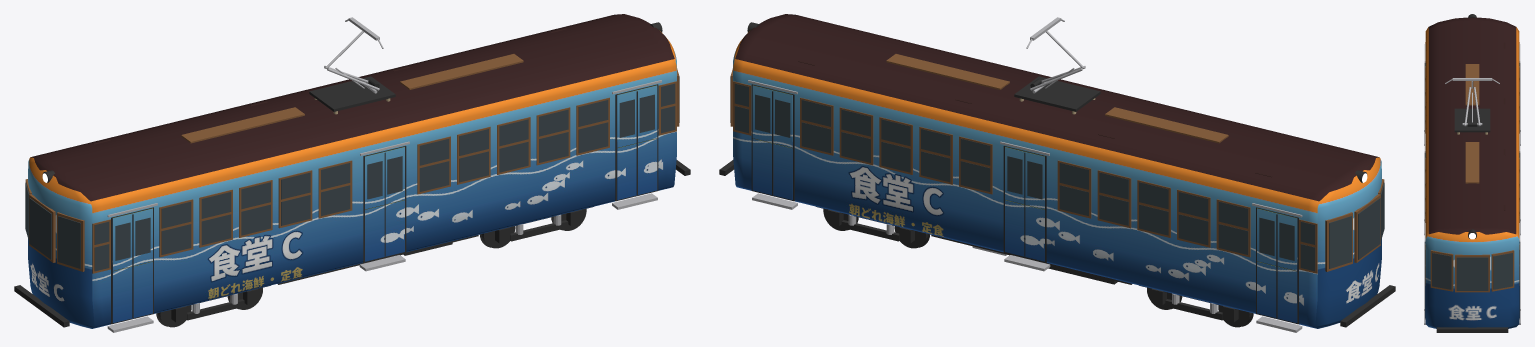
The model's file is tram-shokudo-c.glb.
3 renders of one model, left to right at view 1: azimuth 30°, elevation 25°; view 2: azimuth 150°, elevation 25°; view 3: azimuth 270°, elevation 25°, orthographic. The views are drawn at different scales.
Visible parts, largest first — view 1: H500_Body, H500_SideWin_Glass, H500_Door_Navy, H500_SideWin_Varnish, H500_Door_Beige, H500_Door_Glass, H500_Bogie_Dark, H500_Roof_Varnish, H500_Front_Glass, H500_Door_Dark, H500_Panta_Dark, H500_Under_Metal (+4 smaller); view 2: H500_Body, H500_SideWin_Glass, H500_Door_Navy, H500_SideWin_Varnish, H500_Door_Beige, H500_Door_Glass, H500_Bogie_Dark, H500_Roof_Varnish, H500_Front_Glass, H500_Door_Dark, H500_Panta_Dark, H500_Under_Metal (+5 smaller); view 3: H500_Body, H500_Front_Glass, H500_Roof_Varnish, H500_Front_Varnish, H500_Panta_Dark, H500_Door_Dark, H500_Front_Metal, H500_Panta_Metal, H500_SideWin_Varnish, H500_SideWin_Glass, H500_Door_Metal, H500_Under_Metal.
Part boxes in pixels (box(x1,y1,x2,y2)): H500_Body: box(28, 14, 676, 328); H500_SideWin_Glass: box(94, 83, 675, 271); H500_Door_Navy: box(112, 138, 657, 322); H500_SideWin_Varnish: box(92, 81, 676, 273); H500_Door_Beige: box(112, 85, 657, 270); H500_Door_Glass: box(115, 94, 654, 260); H500_Bogie_Dark: box(156, 206, 593, 327); H500_Roof_Varnish: box(181, 54, 523, 143); H500_Front_Glass: box(25, 76, 679, 268); H500_Door_Dark: box(110, 84, 658, 324); H500_Panta_Dark: box(309, 76, 395, 111); H500_Under_Metal: box(107, 193, 657, 332); H500_Body: box(733, 14, 1381, 328); H500_SideWin_Glass: box(734, 83, 1315, 271); H500_Door_Navy: box(752, 138, 1297, 322); H500_SideWin_Varnish: box(733, 81, 1317, 273); H500_Door_Beige: box(752, 85, 1297, 270); H500_Door_Glass: box(755, 94, 1294, 260); H500_Bogie_Dark: box(816, 206, 1253, 327); H500_Roof_Varnish: box(886, 54, 1228, 143); H500_Front_Glass: box(730, 76, 1384, 268); H500_Door_Dark: box(751, 84, 1299, 324); H500_Panta_Dark: box(1014, 76, 1100, 111); H500_Under_Metal: box(752, 193, 1302, 332); H500_Body: box(1425, 17, 1519, 328); H500_Front_Glass: box(1432, 253, 1512, 290); H500_Roof_Varnish: box(1465, 64, 1479, 183); H500_Front_Varnish: box(1430, 250, 1514, 292); H500_Panta_Dark: box(1454, 108, 1490, 132); H500_Door_Dark: box(1424, 63, 1520, 319); H500_Front_Metal: box(1436, 327, 1508, 332); H500_Panta_Metal: box(1445, 78, 1499, 126); H500_SideWin_Varnish: box(1425, 42, 1519, 285); H500_SideWin_Glass: box(1425, 68, 1519, 283); H500_Door_Metal: box(1424, 44, 1520, 241); H500_Under_Metal: box(1424, 130, 1520, 324).
Size of the model in its own units: 13.17 by 4.7 by 2.42.
Materials: 8 (1 with a texture image).
